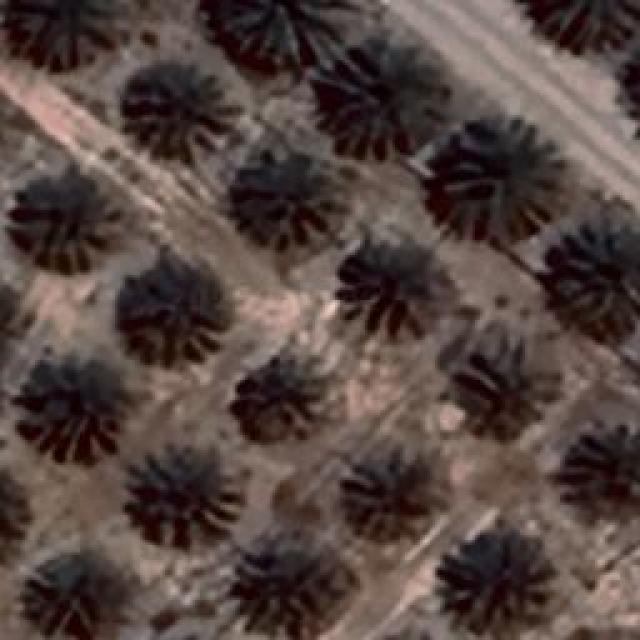PalmTree: (440, 117, 565, 240), (325, 42, 450, 156), (235, 134, 348, 248), (122, 59, 242, 162), (128, 442, 248, 540), (222, 545, 346, 630), (342, 236, 446, 332), (552, 218, 638, 332), (440, 540, 540, 635), (461, 334, 554, 434), (31, 362, 129, 456), (124, 260, 214, 350), (20, 184, 108, 274), (348, 448, 440, 534), (222, 0, 342, 62), (234, 358, 326, 438), (12, 0, 129, 62), (26, 560, 116, 638), (580, 432, 640, 512), (534, 0, 638, 40), (0, 472, 36, 554), (0, 277, 26, 357)
